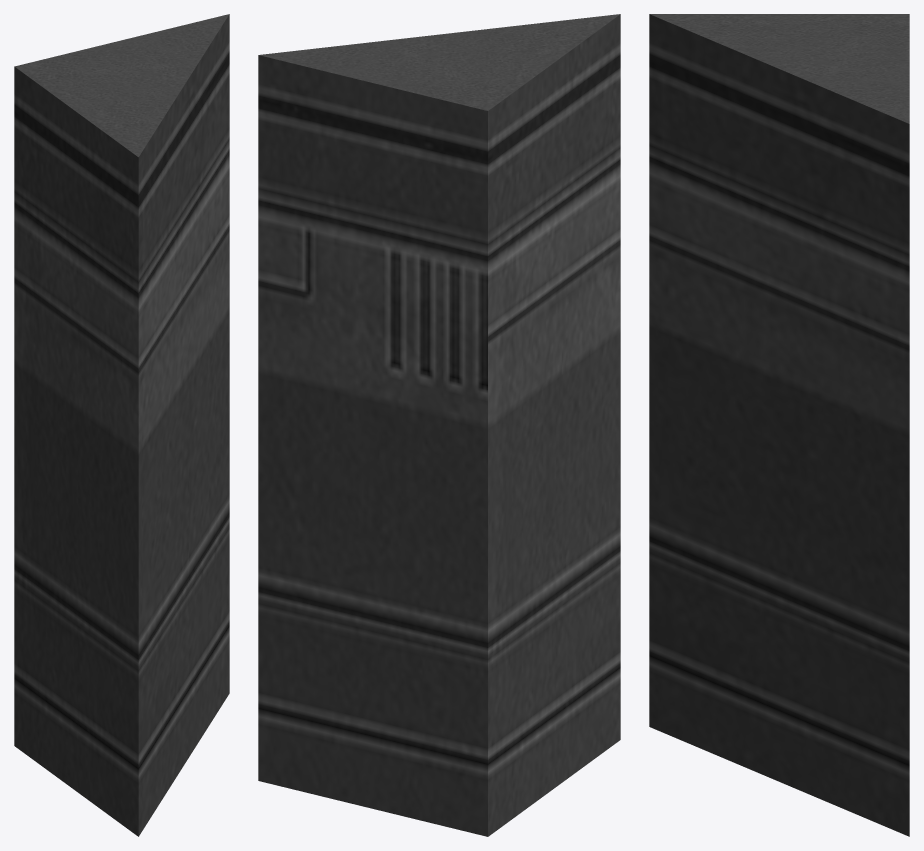
Rendered from Map_Platform_Angle_Int.fbx.
The picture shows the model from 3 angles, left to right: view 1: azimuth 30°, elevation 25°; view 2: azimuth 150°, elevation 25°; view 3: azimuth 270°, elevation 25°; orthographic projection. The views are drawn at different scales.
Parts seen in each view (by area): view 1: Map_Platform_Angle_Int; view 2: Map_Platform_Angle_Int; view 3: Map_Platform_Angle_Int.
Part boxes in pixels (bbox=[...]): Map_Platform_Angle_Int: bbox=[14, 14, 229, 836]; Map_Platform_Angle_Int: bbox=[258, 14, 620, 836]; Map_Platform_Angle_Int: bbox=[649, 14, 909, 836].
Bounding box in the file's own units: 149 × 450 × 149.
Materials: 1 (1 with a texture image).
